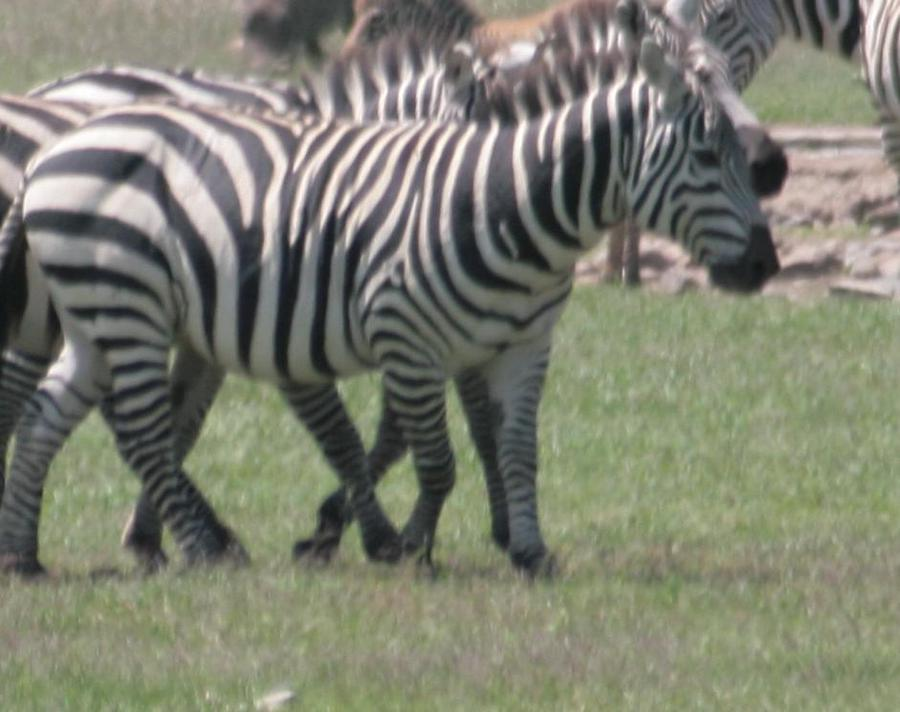zebra_plains: (11, 24, 610, 461)
